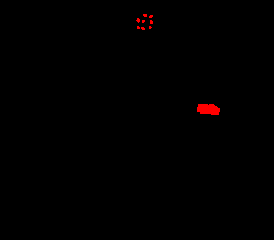Target: (197, 104, 220, 115), (136, 18, 140, 23), (143, 14, 147, 17), (149, 15, 153, 18), (150, 20, 153, 24), (141, 27, 145, 30), (142, 20, 145, 23), (137, 26, 140, 29), (149, 26, 152, 29)
